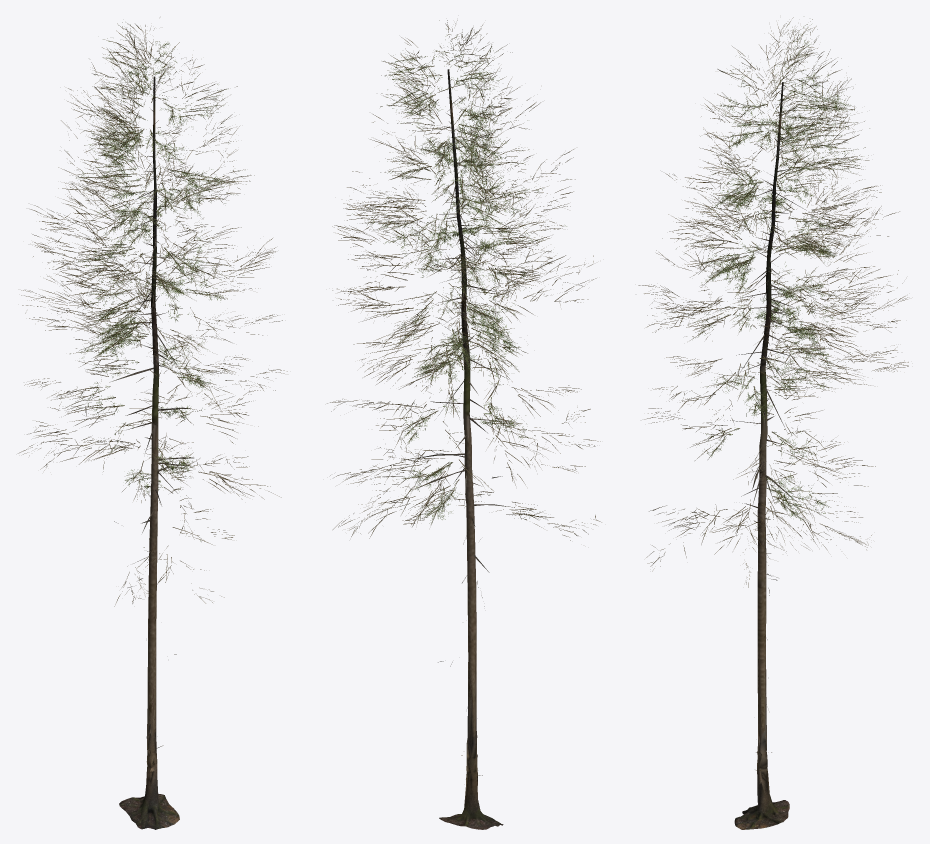
File: fir_tree_01_hi.glb
The picture shows the model from 3 angles, left to right: view 1: azimuth 30°, elevation 25°; view 2: azimuth 150°, elevation 25°; view 3: azimuth 270°, elevation 25°; orthographic projection. The views are drawn at different scales.
Parts seen in each view (by area): view 1: fir_tree_01_a_LOD0; view 2: fir_tree_01_a_LOD0; view 3: fir_tree_01_a_LOD0.
Part boxes in pixels (x1=…): fir_tree_01_a_LOD0: x1=18, y1=22, x2=287, y2=829; fir_tree_01_a_LOD0: x1=327, y1=20, x2=601, y2=829; fir_tree_01_a_LOD0: x1=638, y1=17, x2=908, y2=829.
Size of the model in its own units: 6.4 by 18.87 by 5.99.
4 materials, 4 textured.
